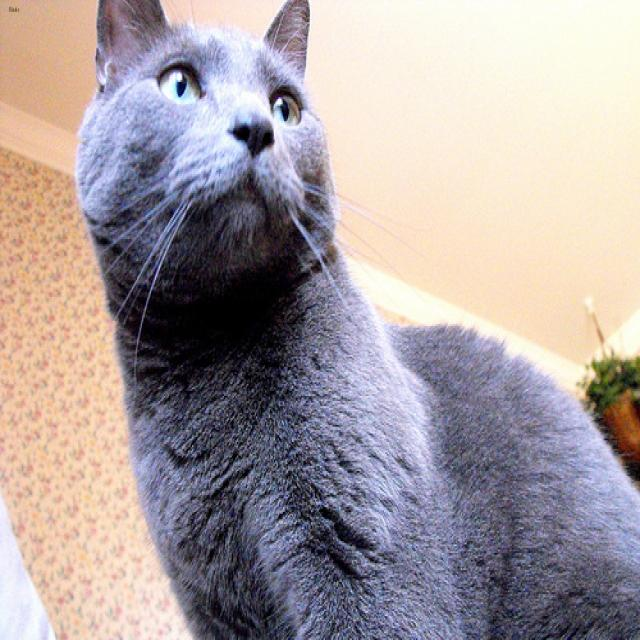cat: (94, 0, 325, 251)
